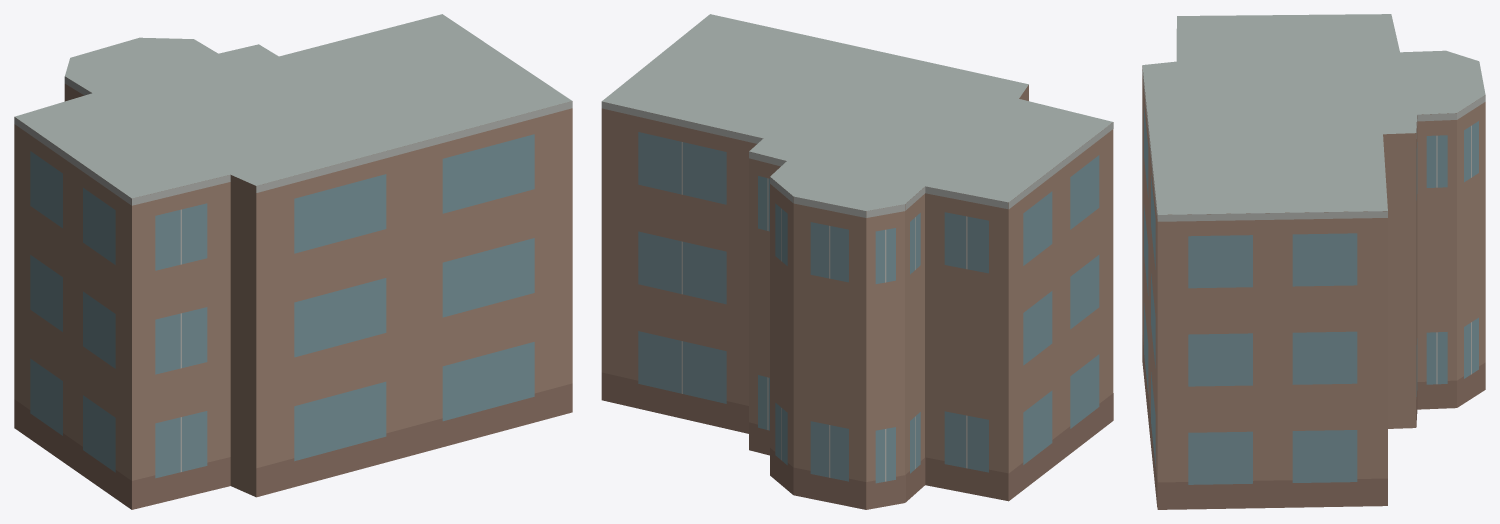
File: survey-upis-32491220.glb
3 renders of one model, left to right at view 1: azimuth 30°, elevation 25°; view 2: azimuth 150°, elevation 25°; view 3: azimuth 270°, elevation 25°, orthographic. The views are drawn at different scales.
Parts seen in each view (by area): view 1: survey-upis-32491220.tmp; view 2: survey-upis-32491220.tmp; view 3: survey-upis-32491220.tmp.
Part boxes in pixels (x1,y1,x2,y2): survey-upis-32491220.tmp: (14, 14, 572, 509); survey-upis-32491220.tmp: (601, 14, 1113, 509); survey-upis-32491220.tmp: (1142, 14, 1485, 509).
Bounding box in the file's own units: 15.35 × 10.5 × 11.08.
